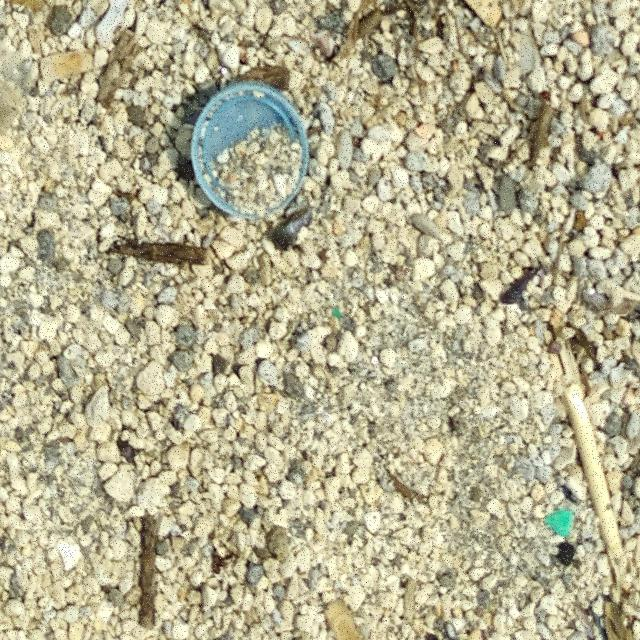plastic_waste: (191, 79, 312, 224)
